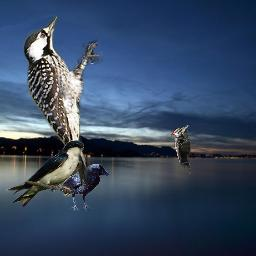Crow: (60, 164, 109, 211)
Swallow: (6, 140, 84, 208)
Woodpecker: (23, 16, 103, 190), (171, 125, 191, 176)
